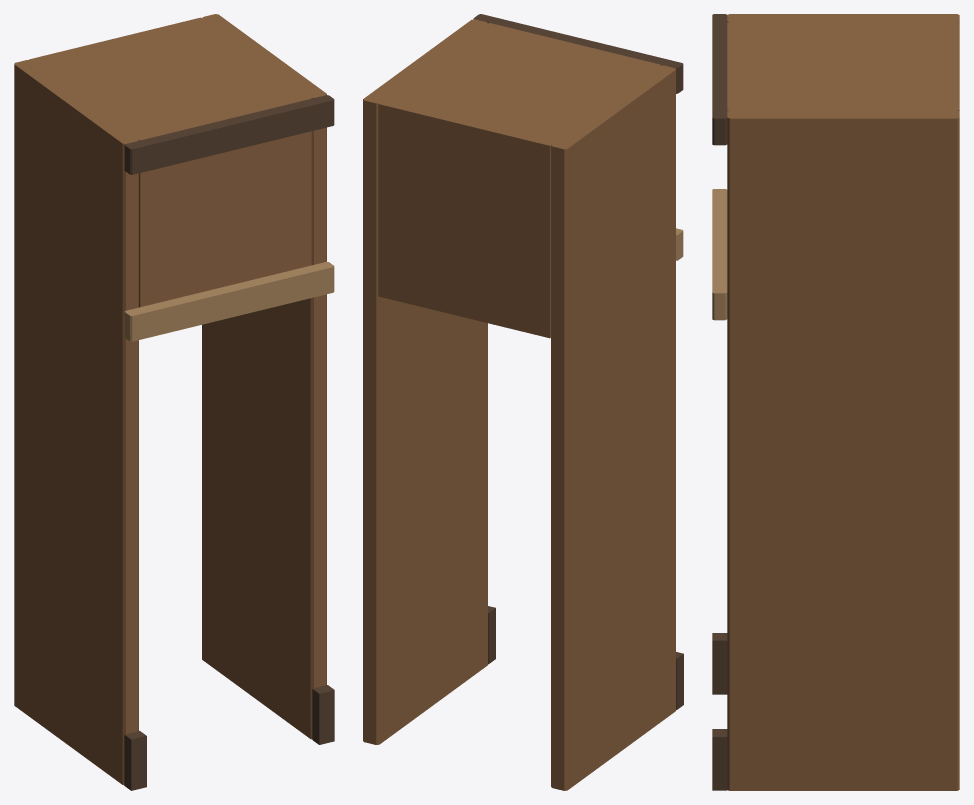
File: door_barn.glb
3 renders of one model, left to right at view 1: azimuth 30°, elevation 25°; view 2: azimuth 150°, elevation 25°; view 3: azimuth 270°, elevation 25°, orthographic. The views are drawn at different scales.
Parts seen in each view (by area): view 1: geometry; view 2: geometry; view 3: geometry.
Boxes of the visible parts, box(x1,y1,x2,y2) form: geometry: box(14, 14, 334, 790); geometry: box(363, 14, 683, 790); geometry: box(712, 14, 959, 790).
Bounding box in the file's own units: 1 × 3 × 1.
